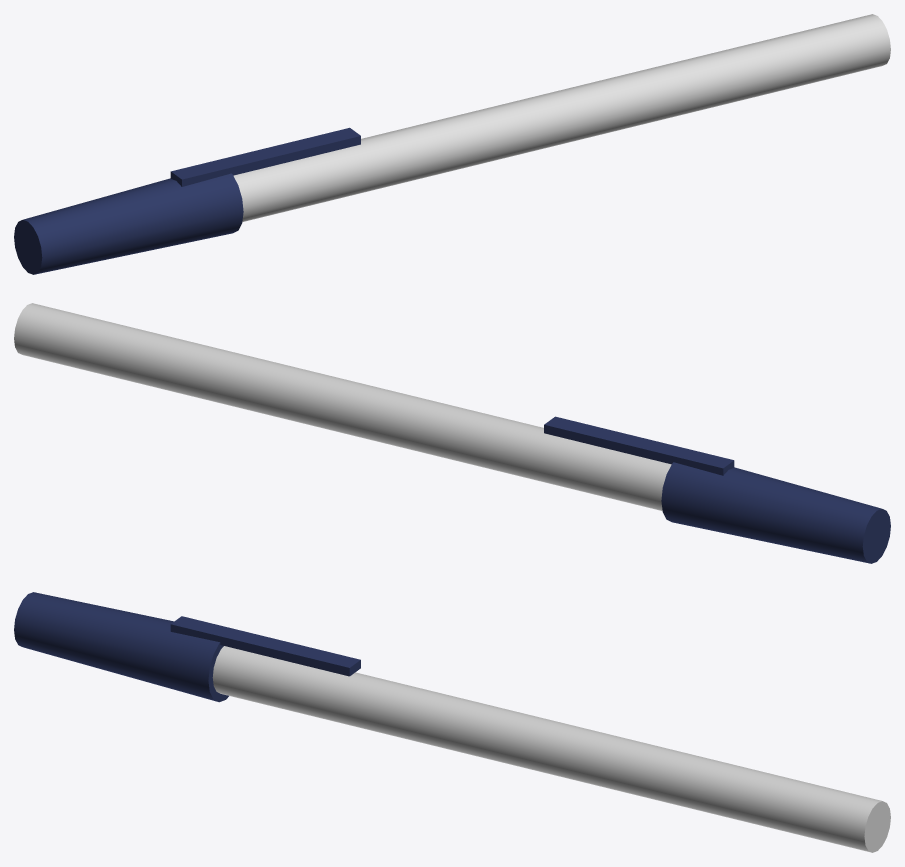
File: pen.fbx
3 views of the same model, one above another, from view 1: azimuth 30°, elevation 25°; view 2: azimuth 150°, elevation 25°; view 3: azimuth 330°, elevation 25° (orthographic).
Parts seen in each view (by area): view 1: pen, Cylinder_1, Cube; view 2: pen, Cylinder_1, Cube; view 3: pen, Cylinder_1, Cube.
Boxes of the visible parts, x1,y1,x2,y2 form: pen: [233, 14, 890, 221]; Cylinder_1: [14, 173, 243, 274]; Cube: [170, 127, 360, 186]; pen: [14, 303, 671, 510]; Cylinder_1: [661, 462, 890, 563]; Cube: [544, 416, 734, 475]; pen: [212, 646, 890, 852]; Cylinder_1: [14, 592, 228, 702]; Cube: [170, 616, 360, 676].
Size of the model in its own units: 35.06 by 2.67 by 2.51.
